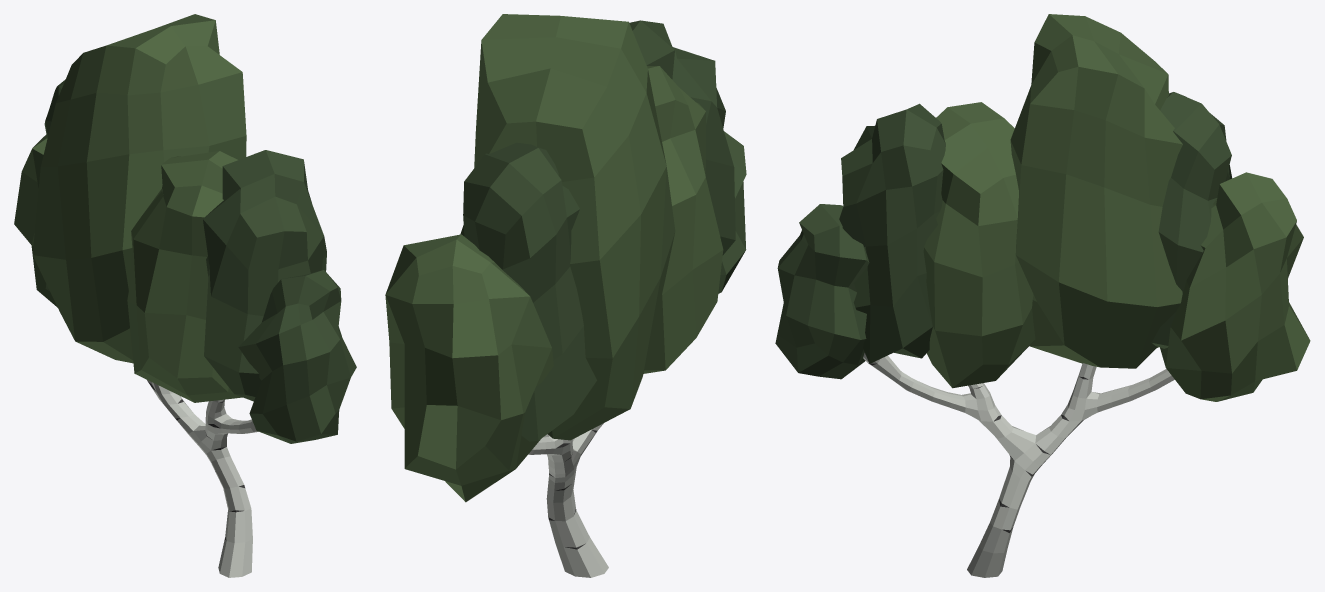
File: BirchTree_4.glb
The picture shows the model from 3 angles, left to right: view 1: azimuth 30°, elevation 25°; view 2: azimuth 150°, elevation 25°; view 3: azimuth 270°, elevation 25°; orthographic projection. The views are drawn at different scales.
Visible parts, largest first — view 1: Green, DarkGreen, White; view 2: Green, DarkGreen, White; view 3: Green, DarkGreen, White.
Boxes of the visible parts, x1,y1,x2,y2 form: Green: (14,14,246,402); DarkGreen: (44,79,356,443); White: (147,380,258,577); Green: (385,14,723,502); DarkGreen: (460,20,746,441); White: (528,423,608,577); Green: (923,14,1310,401); DarkGreen: (775,92,1232,379); White: (863,353,1174,577).
Size of the model in its own units: 1.15 by 3.56 by 3.29.
